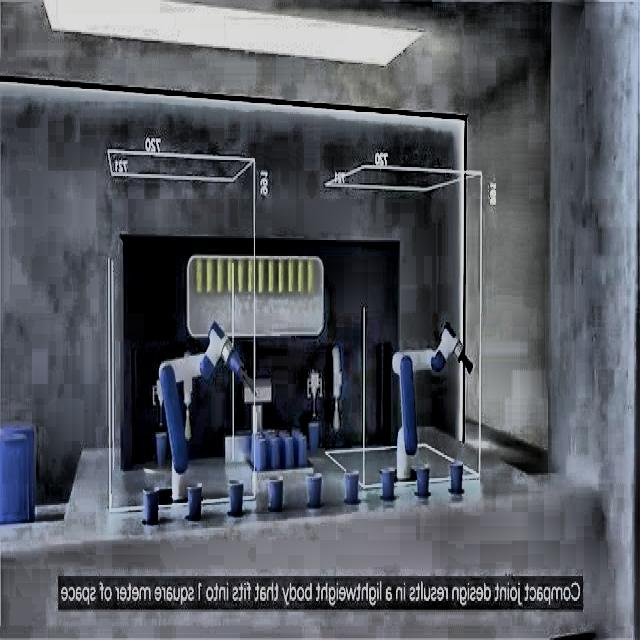robot: (155, 320, 257, 473), (392, 320, 474, 480)
